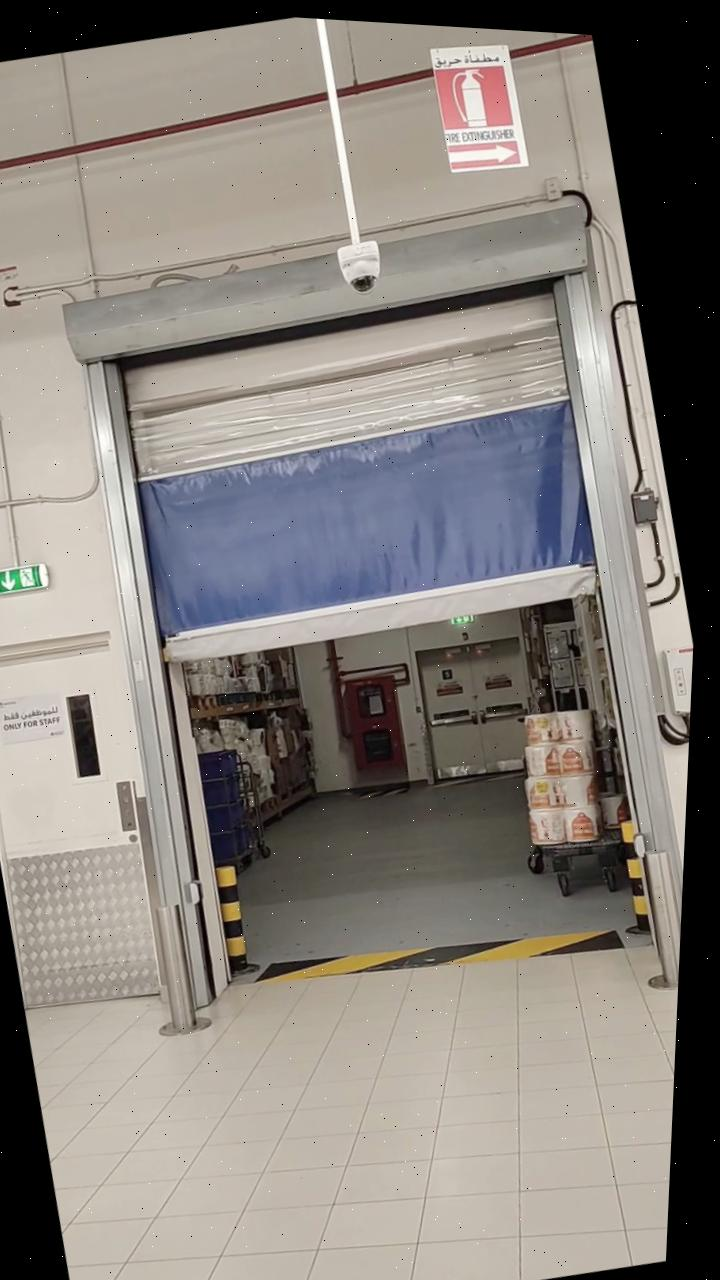Strip: (268, 884, 631, 1016)
